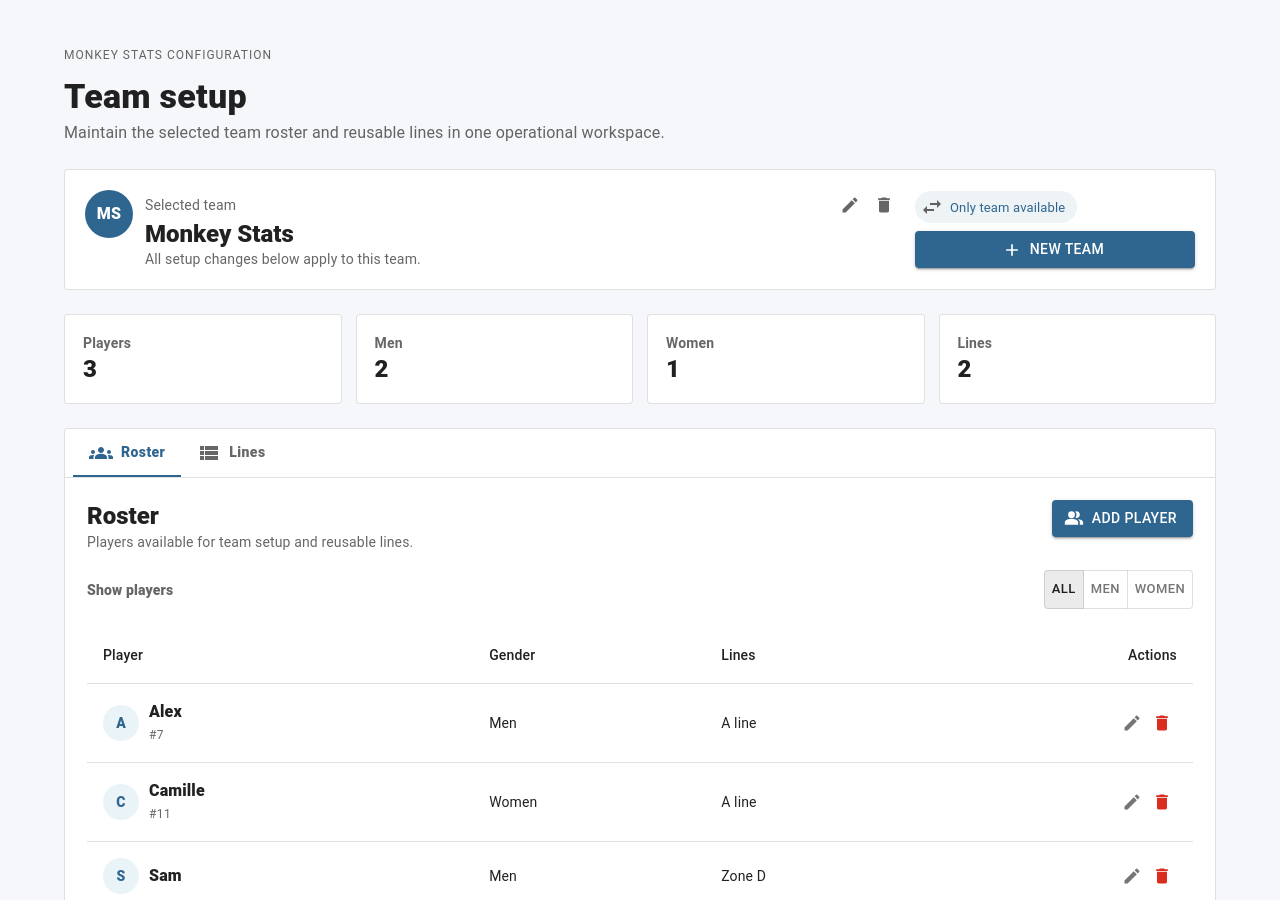
Test: TeamSetupPage › renames the selected team from the workspace card
Check: the heading "Team setup" is shown, box [64,76,247,116]
Click the button named "Rename team". click: (850, 205)
box: [835,190,865,220]
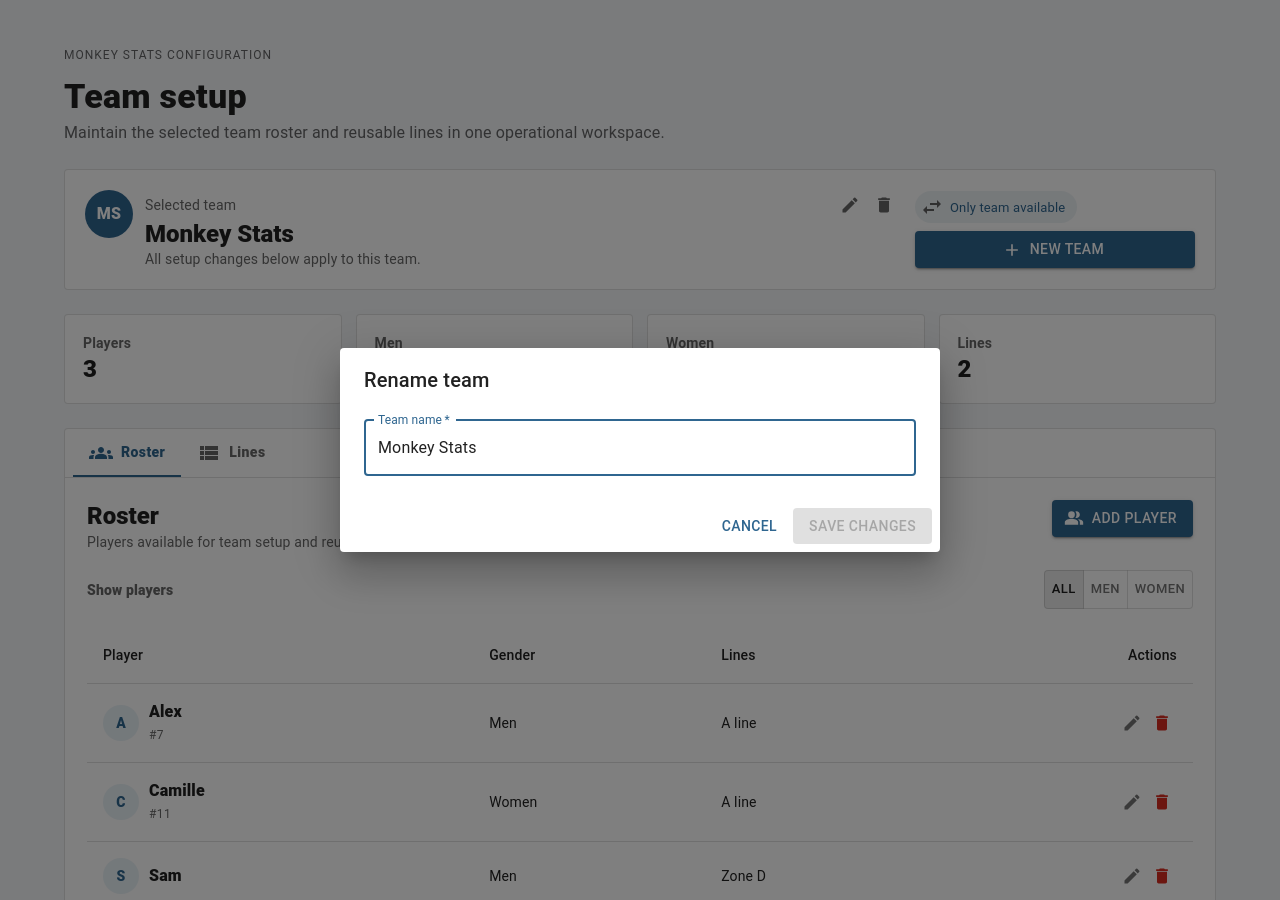
Replace the text in the field labelled "Team name" with "Monkey Club". click: (640, 448)
box: [364,420,916,476]
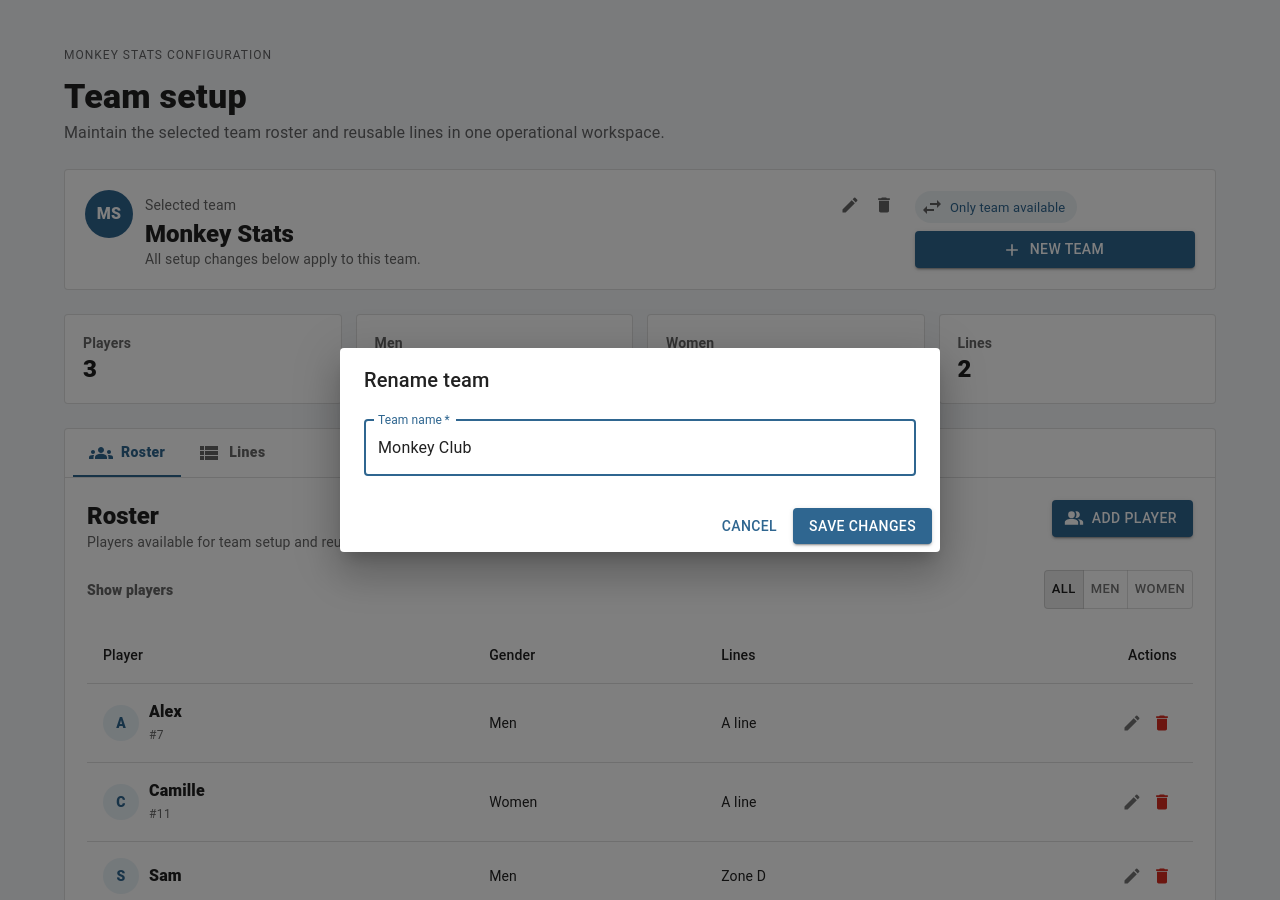
Click the button "Save Changes". click: (863, 526)
box: [793,508,932,544]
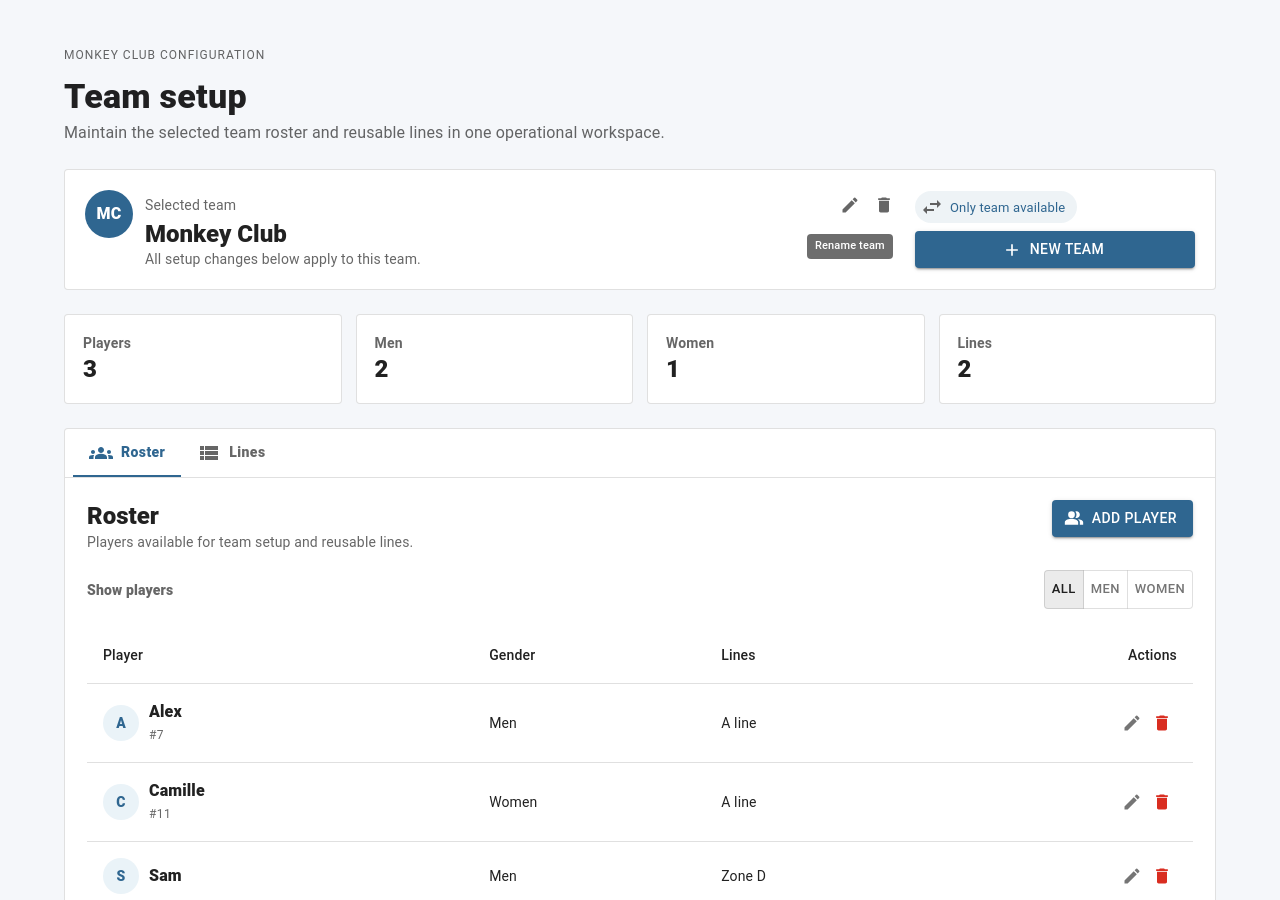
Check: the text "Monkey Club configuration" is shown, box [64,48,265,62]
Check: the heading "Monkey Club" is shown, box [145,220,287,248]
